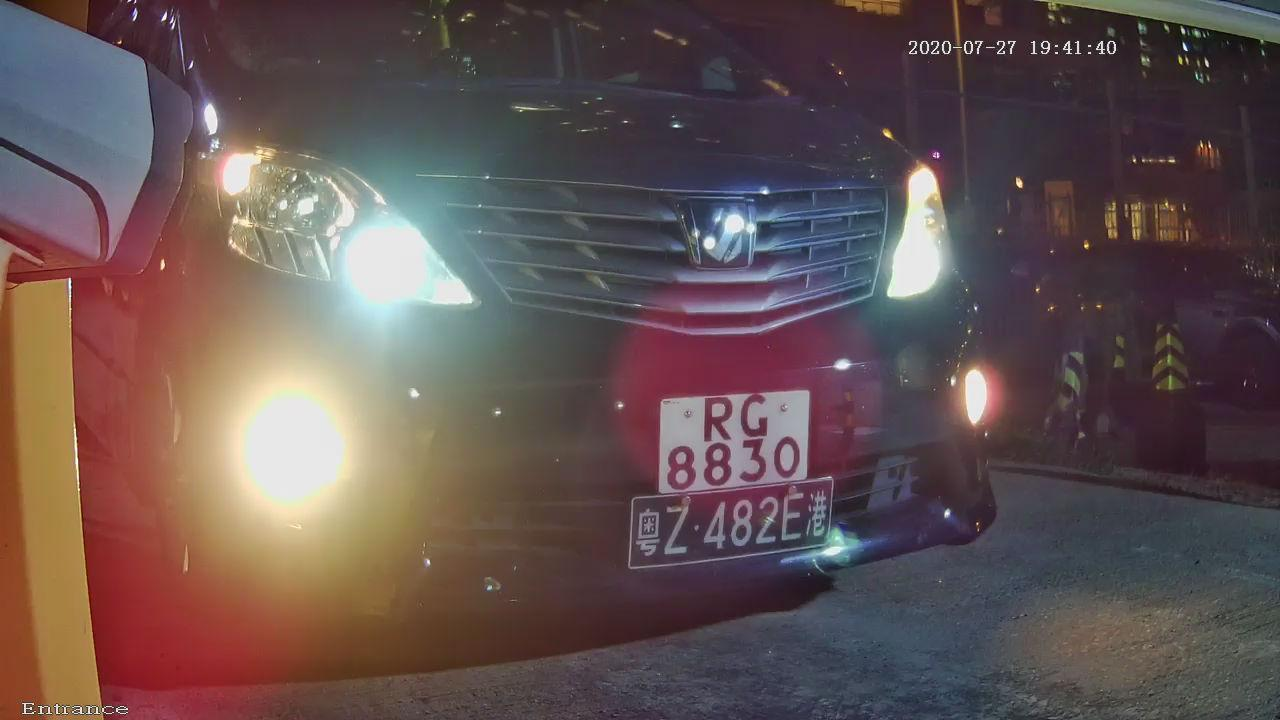privatecar: (172, 36, 1018, 643)
